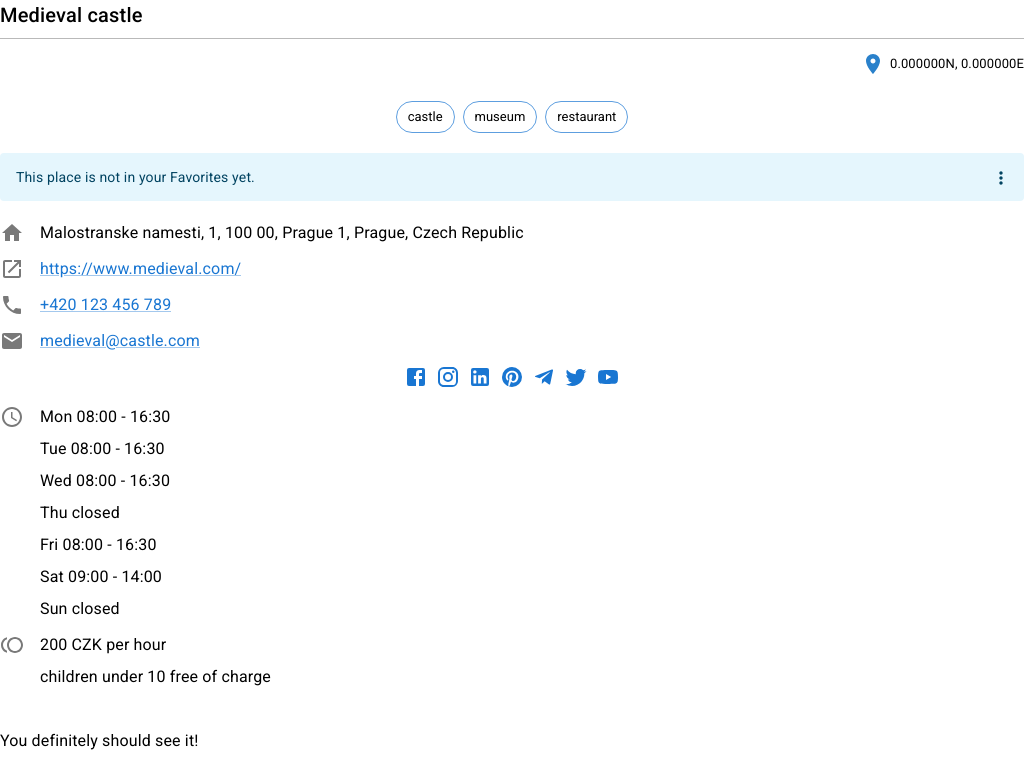
Test: <EntityPlaceContent /> › should redraw alert and map upon Save
Click the button named "Menu" at (1001, 178), box x1=986 y1=163 x2=1016 y2=193
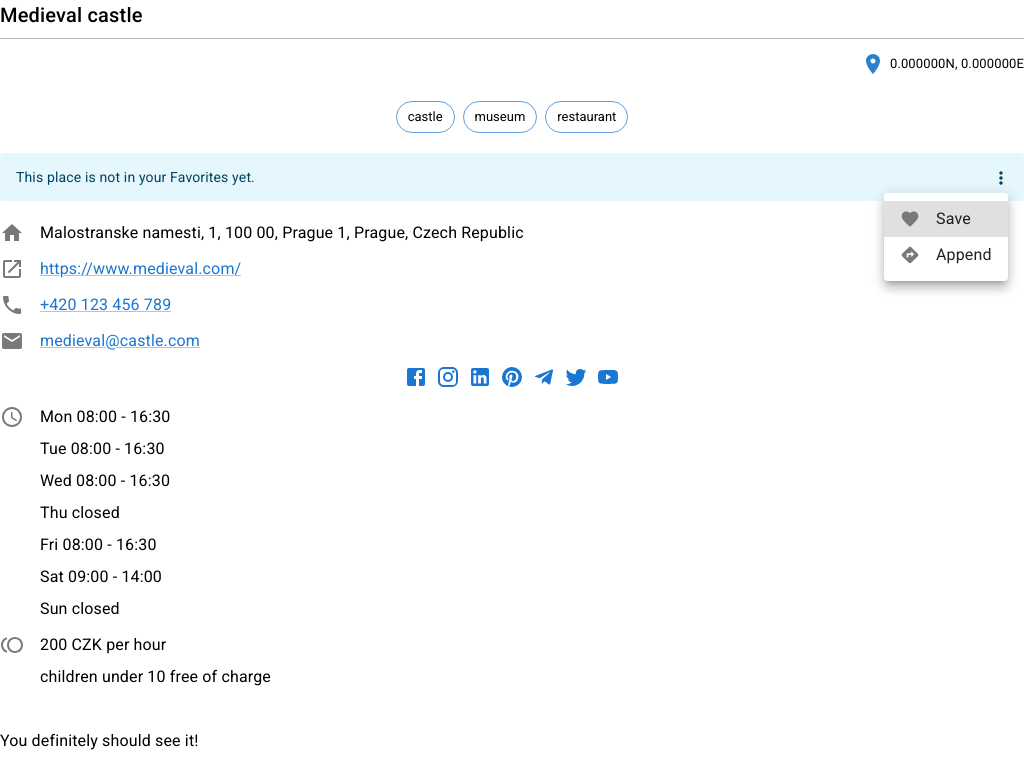
Click the menu item "Save" at (946, 219), box x1=884 y1=201 x2=1008 y2=237
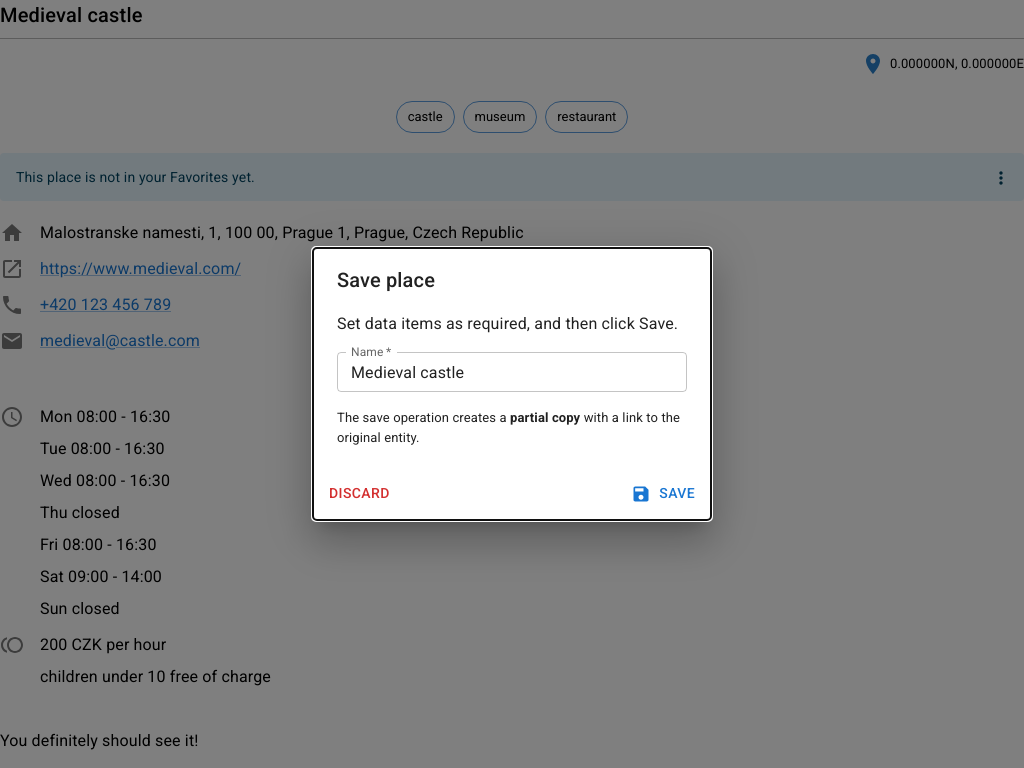
Click the button "Save" at (665, 494), box x1=627 y1=475 x2=703 y2=512
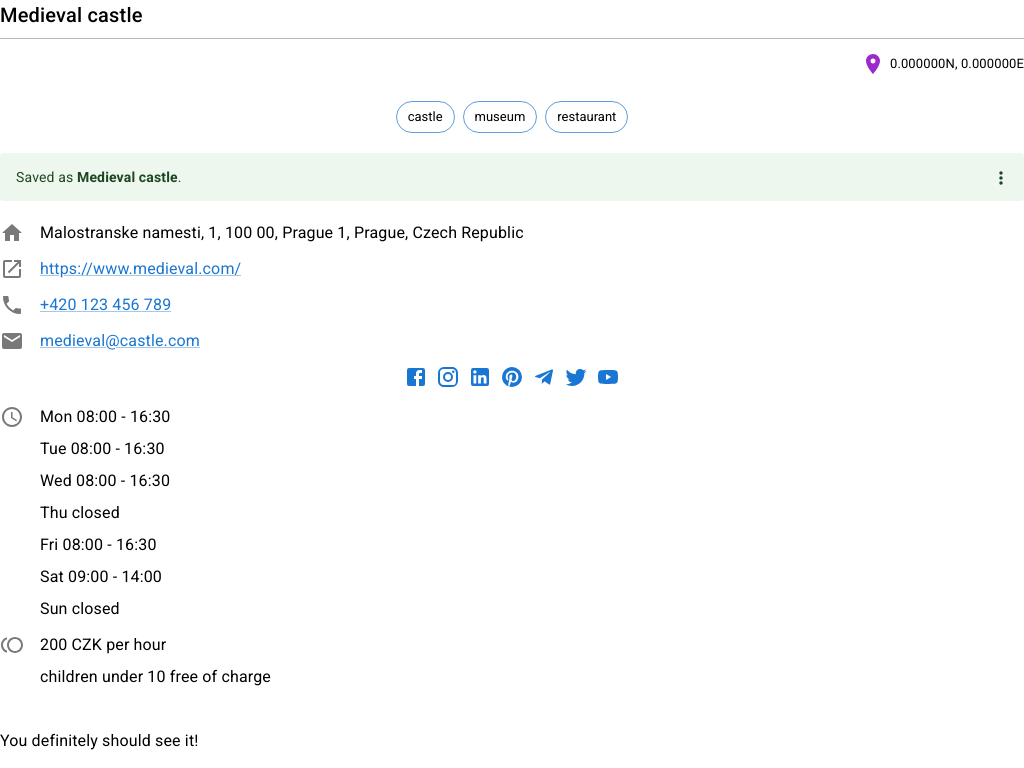
Check: the text "Medieval castle" next to "Saved as" is shown, box x1=77 y1=169 x2=178 y2=185
